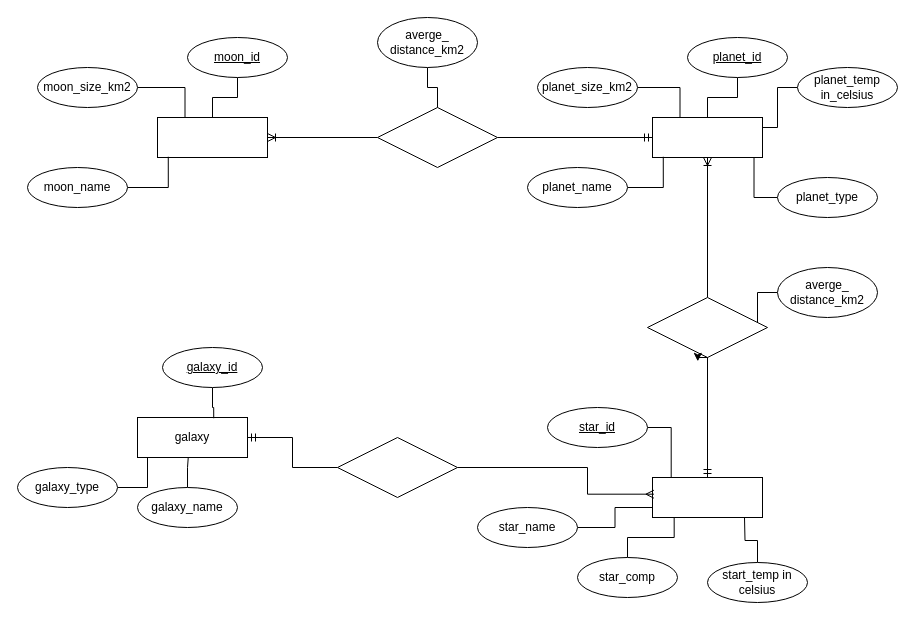
The diagram is 915 pixels wide and 620 high, and some of its shapes have lost their labels. The centre of each missing label's shape, as x and y in pixels:
compose: pixel 397 467
moon: pixel 212 137
planet: pixel 707 137
planet orbit star: pixel 707 327
star: pixel 707 497
star orbit planets: pixel 437 137
